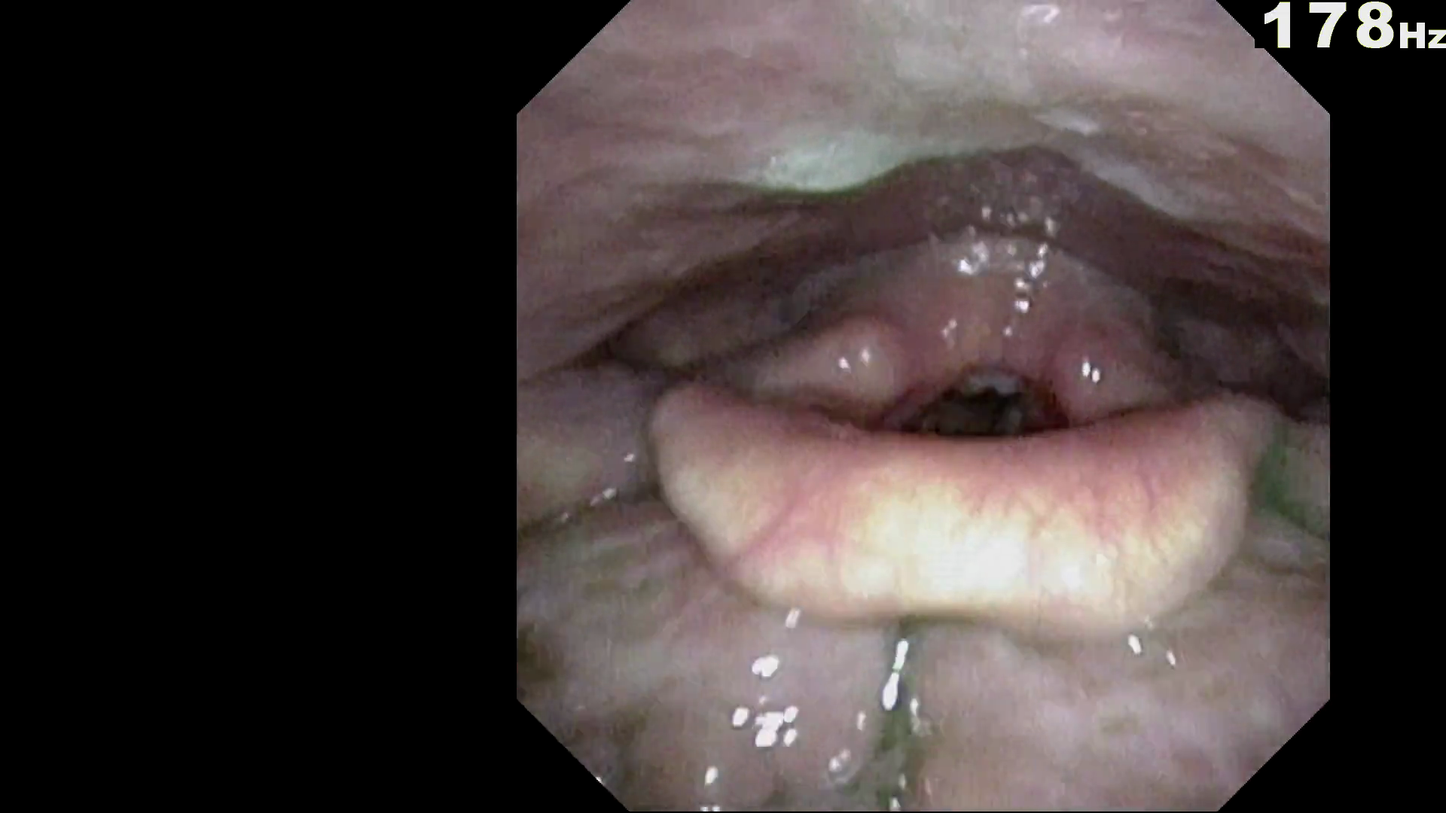epiglottis: (670, 408, 1283, 598)
trachea: (898, 373, 1052, 456)
